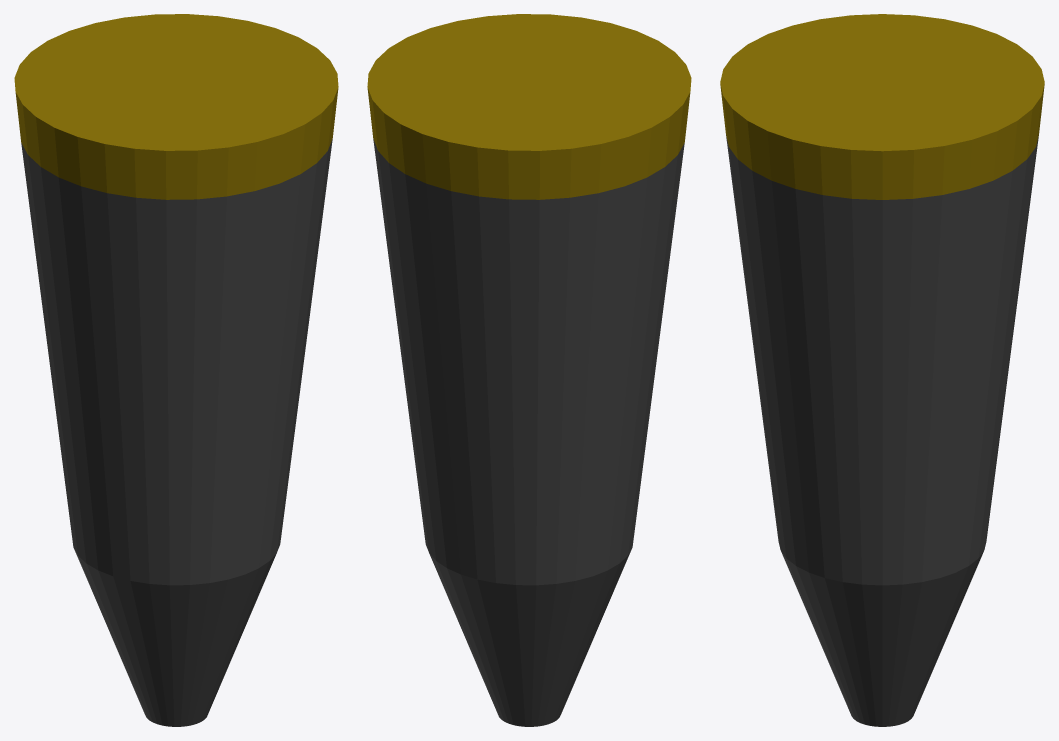
File: bala.fbx
3 views of the same model, side by side, from view 1: azimuth 30°, elevation 25°; view 2: azimuth 150°, elevation 25°; view 3: azimuth 270°, elevation 25° (orthographic).
Visible parts, largest first — view 1: Cylinder; view 2: Cylinder; view 3: Cylinder.
Boxes of the visible parts, x1,y1,x2,y2 form: Cylinder: [14, 14, 338, 726]; Cylinder: [367, 14, 691, 726]; Cylinder: [720, 14, 1044, 726].
Size of the model in its own units: 84.27 by 181 by 84.27.
